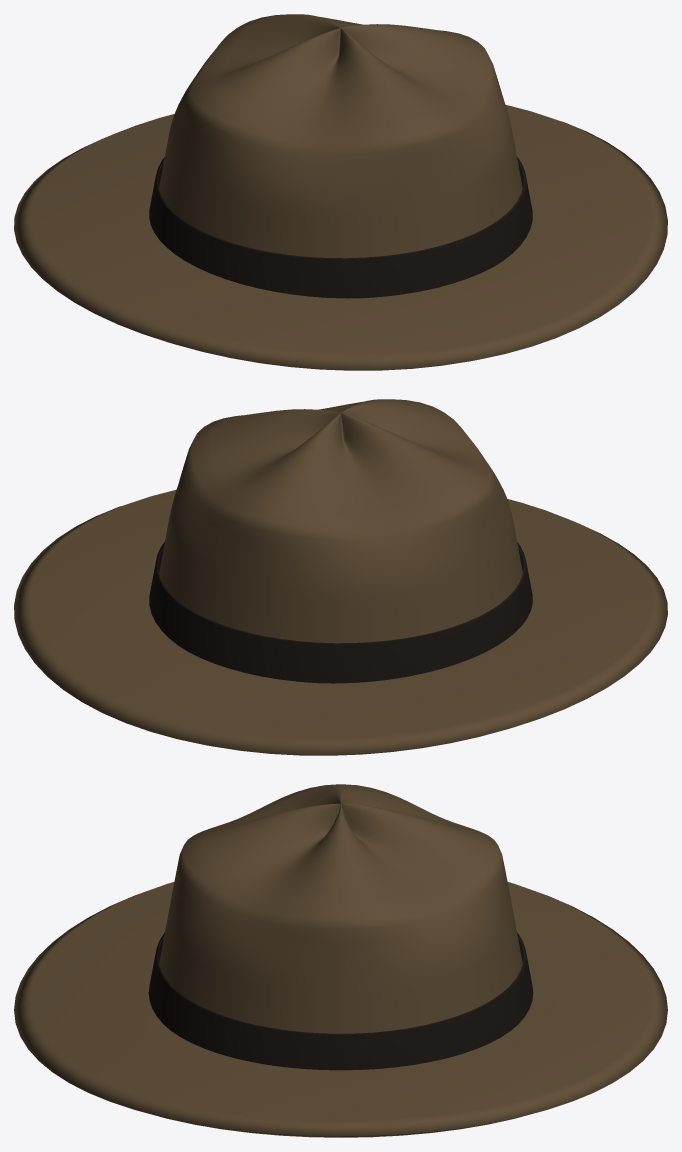
Rendered from ranger_hat_burnt.obj.
3 views of the same model, one above another, from view 1: azimuth 30°, elevation 25°; view 2: azimuth 150°, elevation 25°; view 3: azimuth 270°, elevation 25° (orthographic).
Parts seen in each view (by area): view 1: Brim, Crown, Band; view 2: Brim, Crown, Band; view 3: Brim, Crown, Band.
Part boxes in pixels (x1,y1,x2,y2): Brim: (14, 104, 667, 370); Crown: (159, 14, 522, 258); Band: (149, 157, 532, 298); Brim: (14, 489, 667, 755); Crown: (159, 399, 522, 643); Band: (149, 542, 532, 683); Brim: (14, 882, 667, 1137); Crown: (159, 784, 522, 1033); Band: (148, 932, 533, 1070).
Bounding box in the file's own units: 2.44 × 0.8802 × 2.44.
